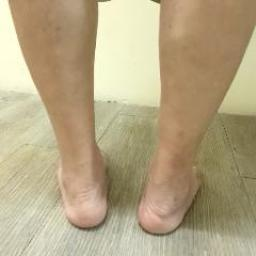Back View -Both Feet-: (39, 125, 221, 245)
